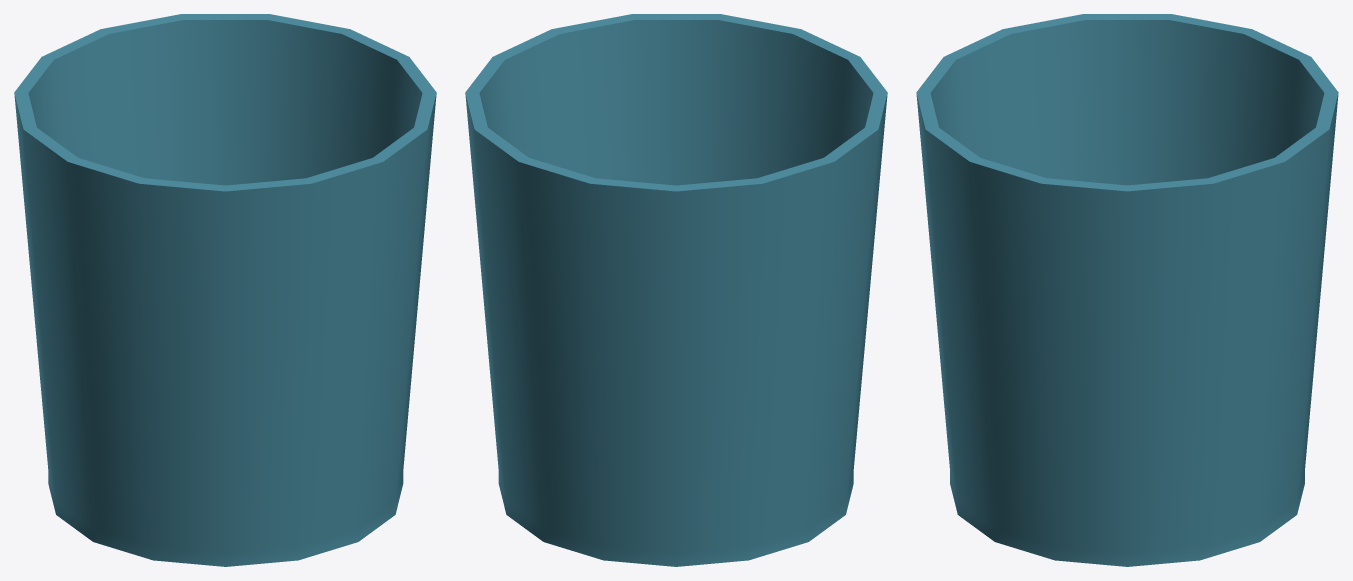
Rendered from Prullebak.fbx.
3 views of the same model, side by side, from view 1: azimuth 30°, elevation 25°; view 2: azimuth 150°, elevation 25°; view 3: azimuth 270°, elevation 25° (orthographic).
Visible parts, largest first — view 1: pCylinder10; view 2: pCylinder10; view 3: pCylinder10.
Part boxes in pixels (box(x1,y1,x2,y2)): pCylinder10: box(14, 14, 436, 566); pCylinder10: box(465, 14, 887, 566); pCylinder10: box(916, 14, 1338, 566).
Bounding box in the file's own units: 3.12 × 3.2 × 3.14.
